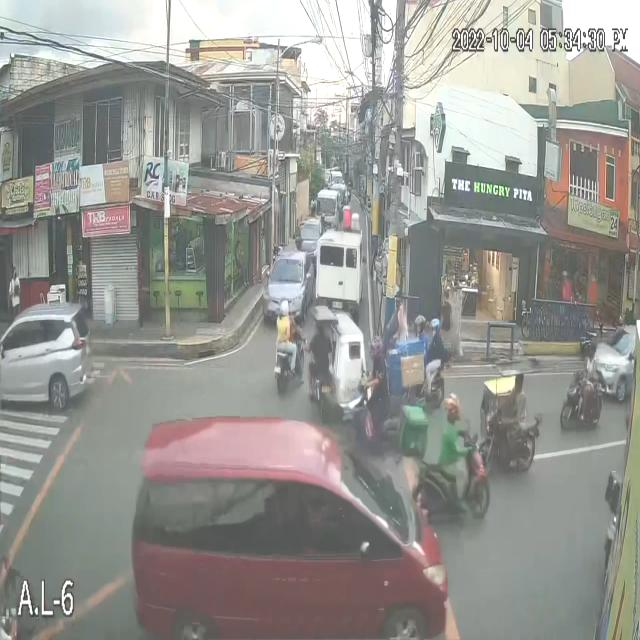Full-Faced: (440, 385, 464, 419), (414, 312, 430, 338), (427, 315, 442, 335), (277, 300, 288, 320)
Not-Wearing-Helmet: (580, 340, 600, 372)
